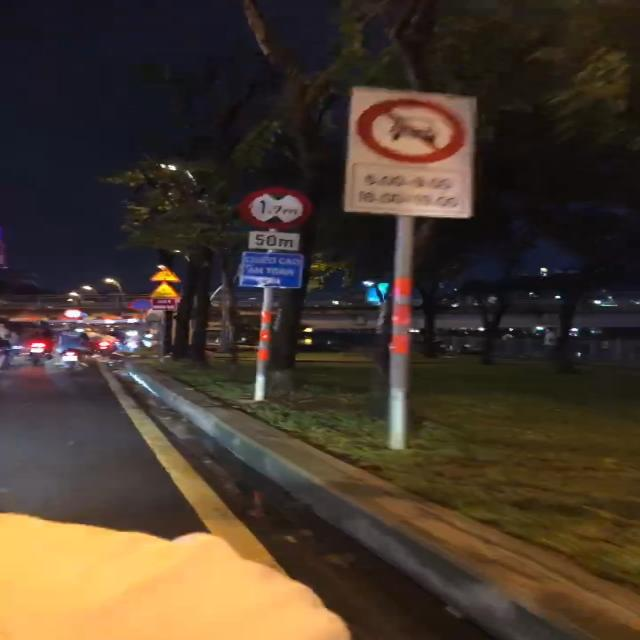Bien bao cam xe oto: (334, 79, 484, 173)
Bien bao han che chieu cao: (236, 177, 320, 231)
